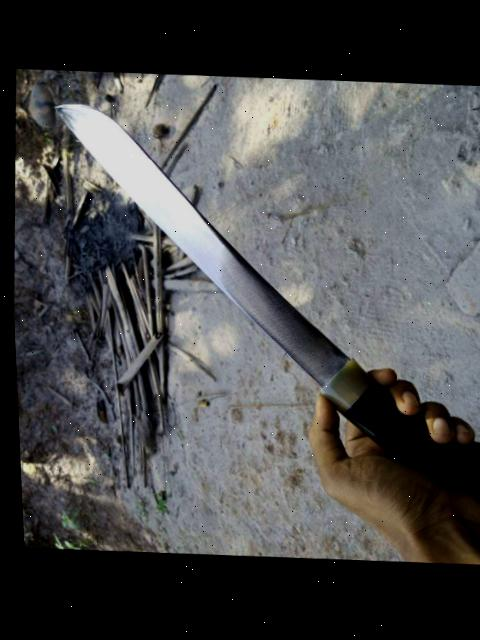long knife: (31, 96, 480, 525)
